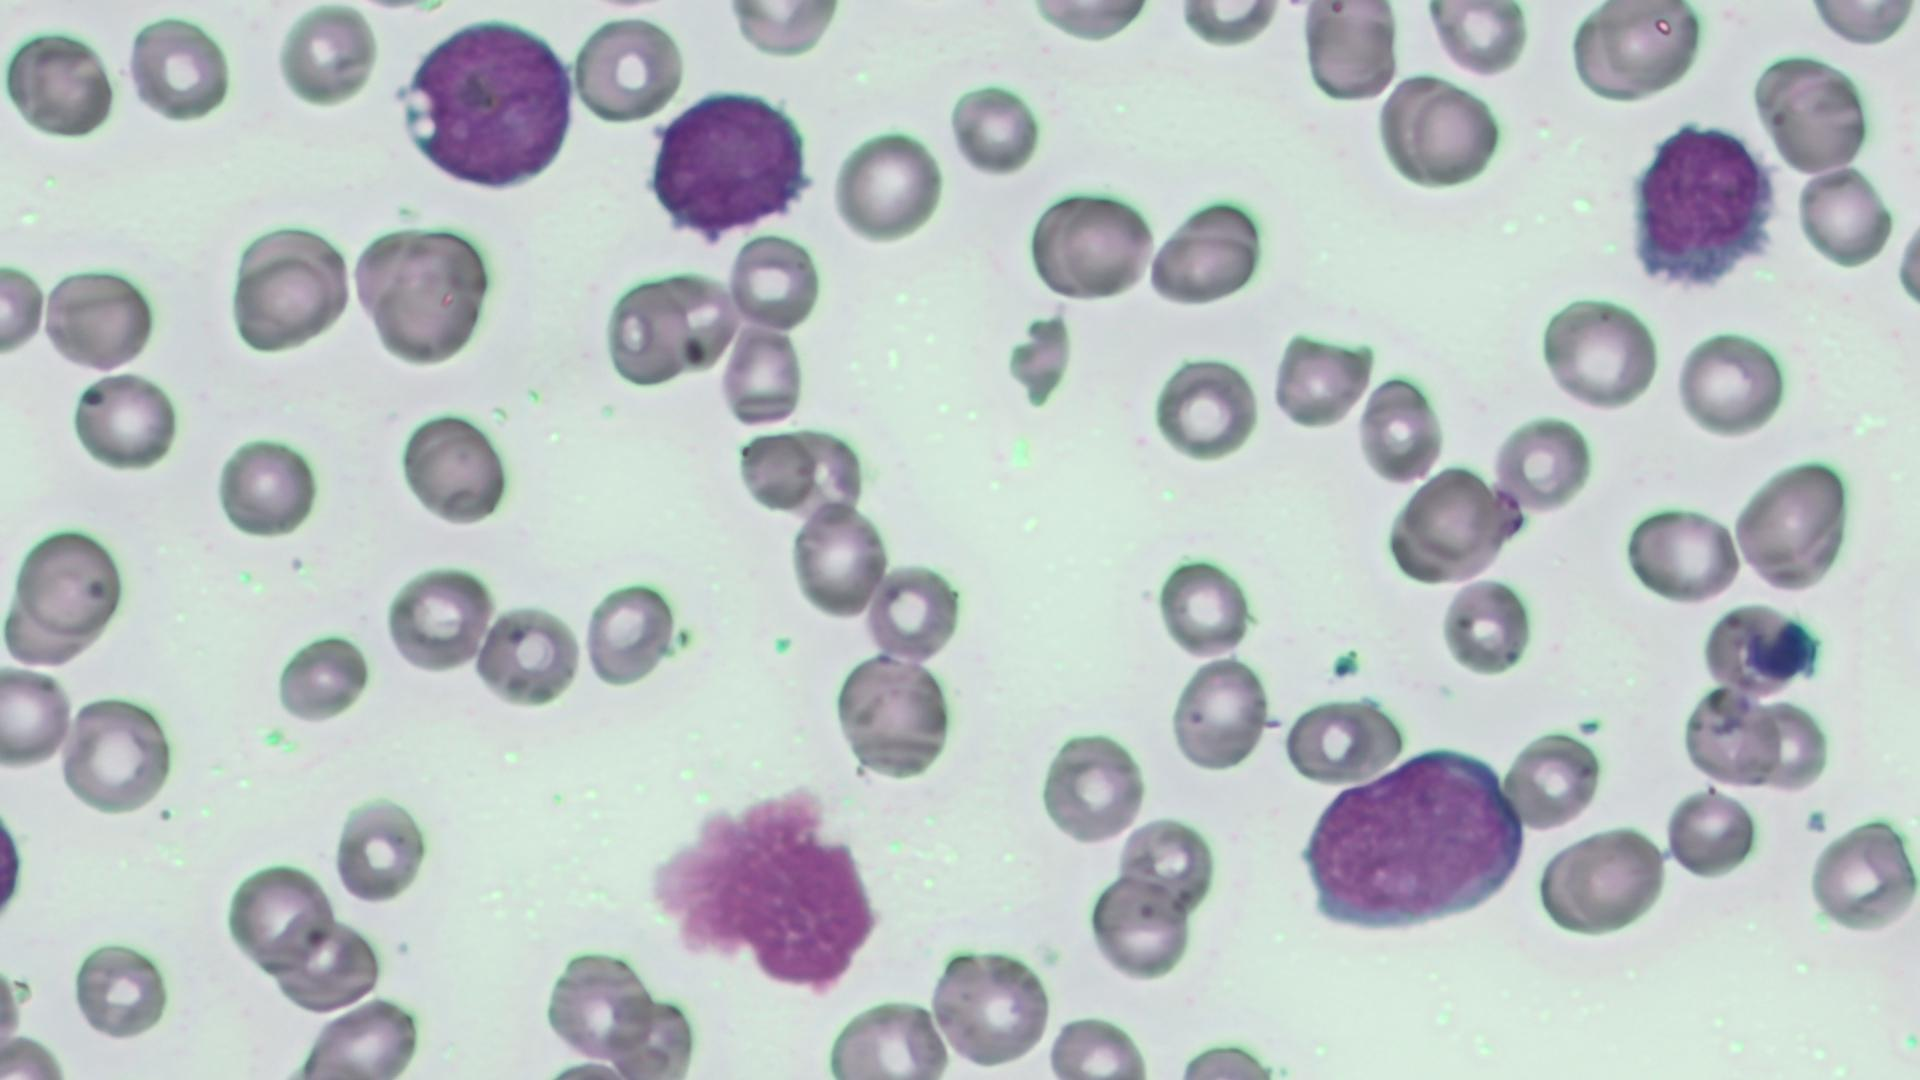Platelets: (1010, 314, 1077, 406), (1327, 647, 1367, 682), (1570, 713, 1606, 736), (1803, 806, 1827, 835)
RBC: (356, 220, 492, 372), (1731, 453, 1854, 596), (226, 219, 351, 356), (928, 939, 1054, 1071), (832, 648, 956, 781), (1540, 823, 1670, 937), (1029, 186, 1154, 303), (6, 522, 124, 645), (1533, 294, 1659, 409), (1392, 460, 1508, 583), (2, 21, 119, 142), (1034, 726, 1148, 849), (1760, 55, 1874, 178), (58, 692, 171, 814), (395, 407, 510, 526), (382, 557, 496, 677), (830, 124, 944, 244), (1148, 348, 1264, 464), (1145, 197, 1267, 307), (573, 9, 685, 126), (125, 7, 234, 124), (1081, 871, 1195, 982), (224, 859, 335, 973), (1168, 653, 1271, 775), (787, 499, 890, 620), (43, 260, 156, 370), (1620, 501, 1740, 604), (543, 952, 654, 1063), (1674, 327, 1788, 435), (473, 600, 580, 712), (1581, 1, 1704, 96), (640, 265, 741, 379), (68, 370, 180, 472), (1698, 602, 1821, 694), (1284, 691, 1404, 784), (215, 433, 319, 540), (277, 2, 380, 110), (1680, 685, 1785, 790), (602, 270, 694, 389), (1491, 410, 1596, 514), (1270, 328, 1371, 436), (582, 577, 679, 688), (1355, 370, 1447, 484), (1156, 553, 1255, 658), (825, 994, 948, 1077), (1794, 163, 1893, 266), (1407, 80, 1503, 186), (724, 233, 822, 333), (1301, 4, 1400, 102), (1440, 577, 1533, 679), (1659, 788, 1761, 879), (718, 322, 806, 425), (1423, 2, 1528, 79), (0, 662, 75, 764), (732, 428, 819, 514), (1044, 1011, 1154, 1078), (723, 0, 844, 57), (1024, 0, 1156, 42), (0, 253, 49, 361), (1802, 0, 1916, 46), (1175, 1036, 1276, 1078), (1893, 198, 1920, 320)
WBC: (636, 784, 891, 991), (1293, 752, 1530, 939), (398, 11, 581, 197), (645, 84, 819, 243), (1626, 118, 1779, 297)
